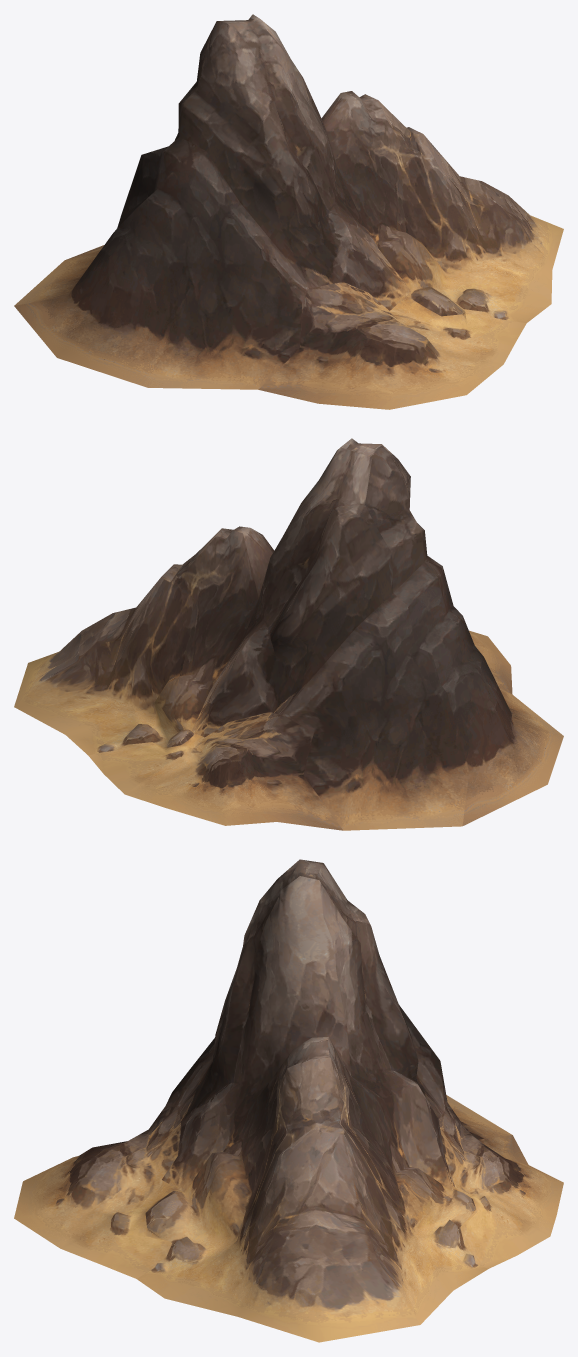
Rendered from xsm_shitou_2.FBX.
The picture shows the model from 3 angles, top to bottom: view 1: azimuth 30°, elevation 25°; view 2: azimuth 150°, elevation 25°; view 3: azimuth 270°, elevation 25°; orthographic projection. The views are drawn at different scales.
Visible parts, largest first — view 1: xsm_shitou_2; view 2: xsm_shitou_2; view 3: xsm_shitou_2.
Part boxes in pixels (x1,y1,x2,y2): xsm_shitou_2: (14,14,563,409); xsm_shitou_2: (14,438,563,830); xsm_shitou_2: (14,859,563,1342).
Bounding box in the file's own units: 67.1 × 36.91 × 59.69.
